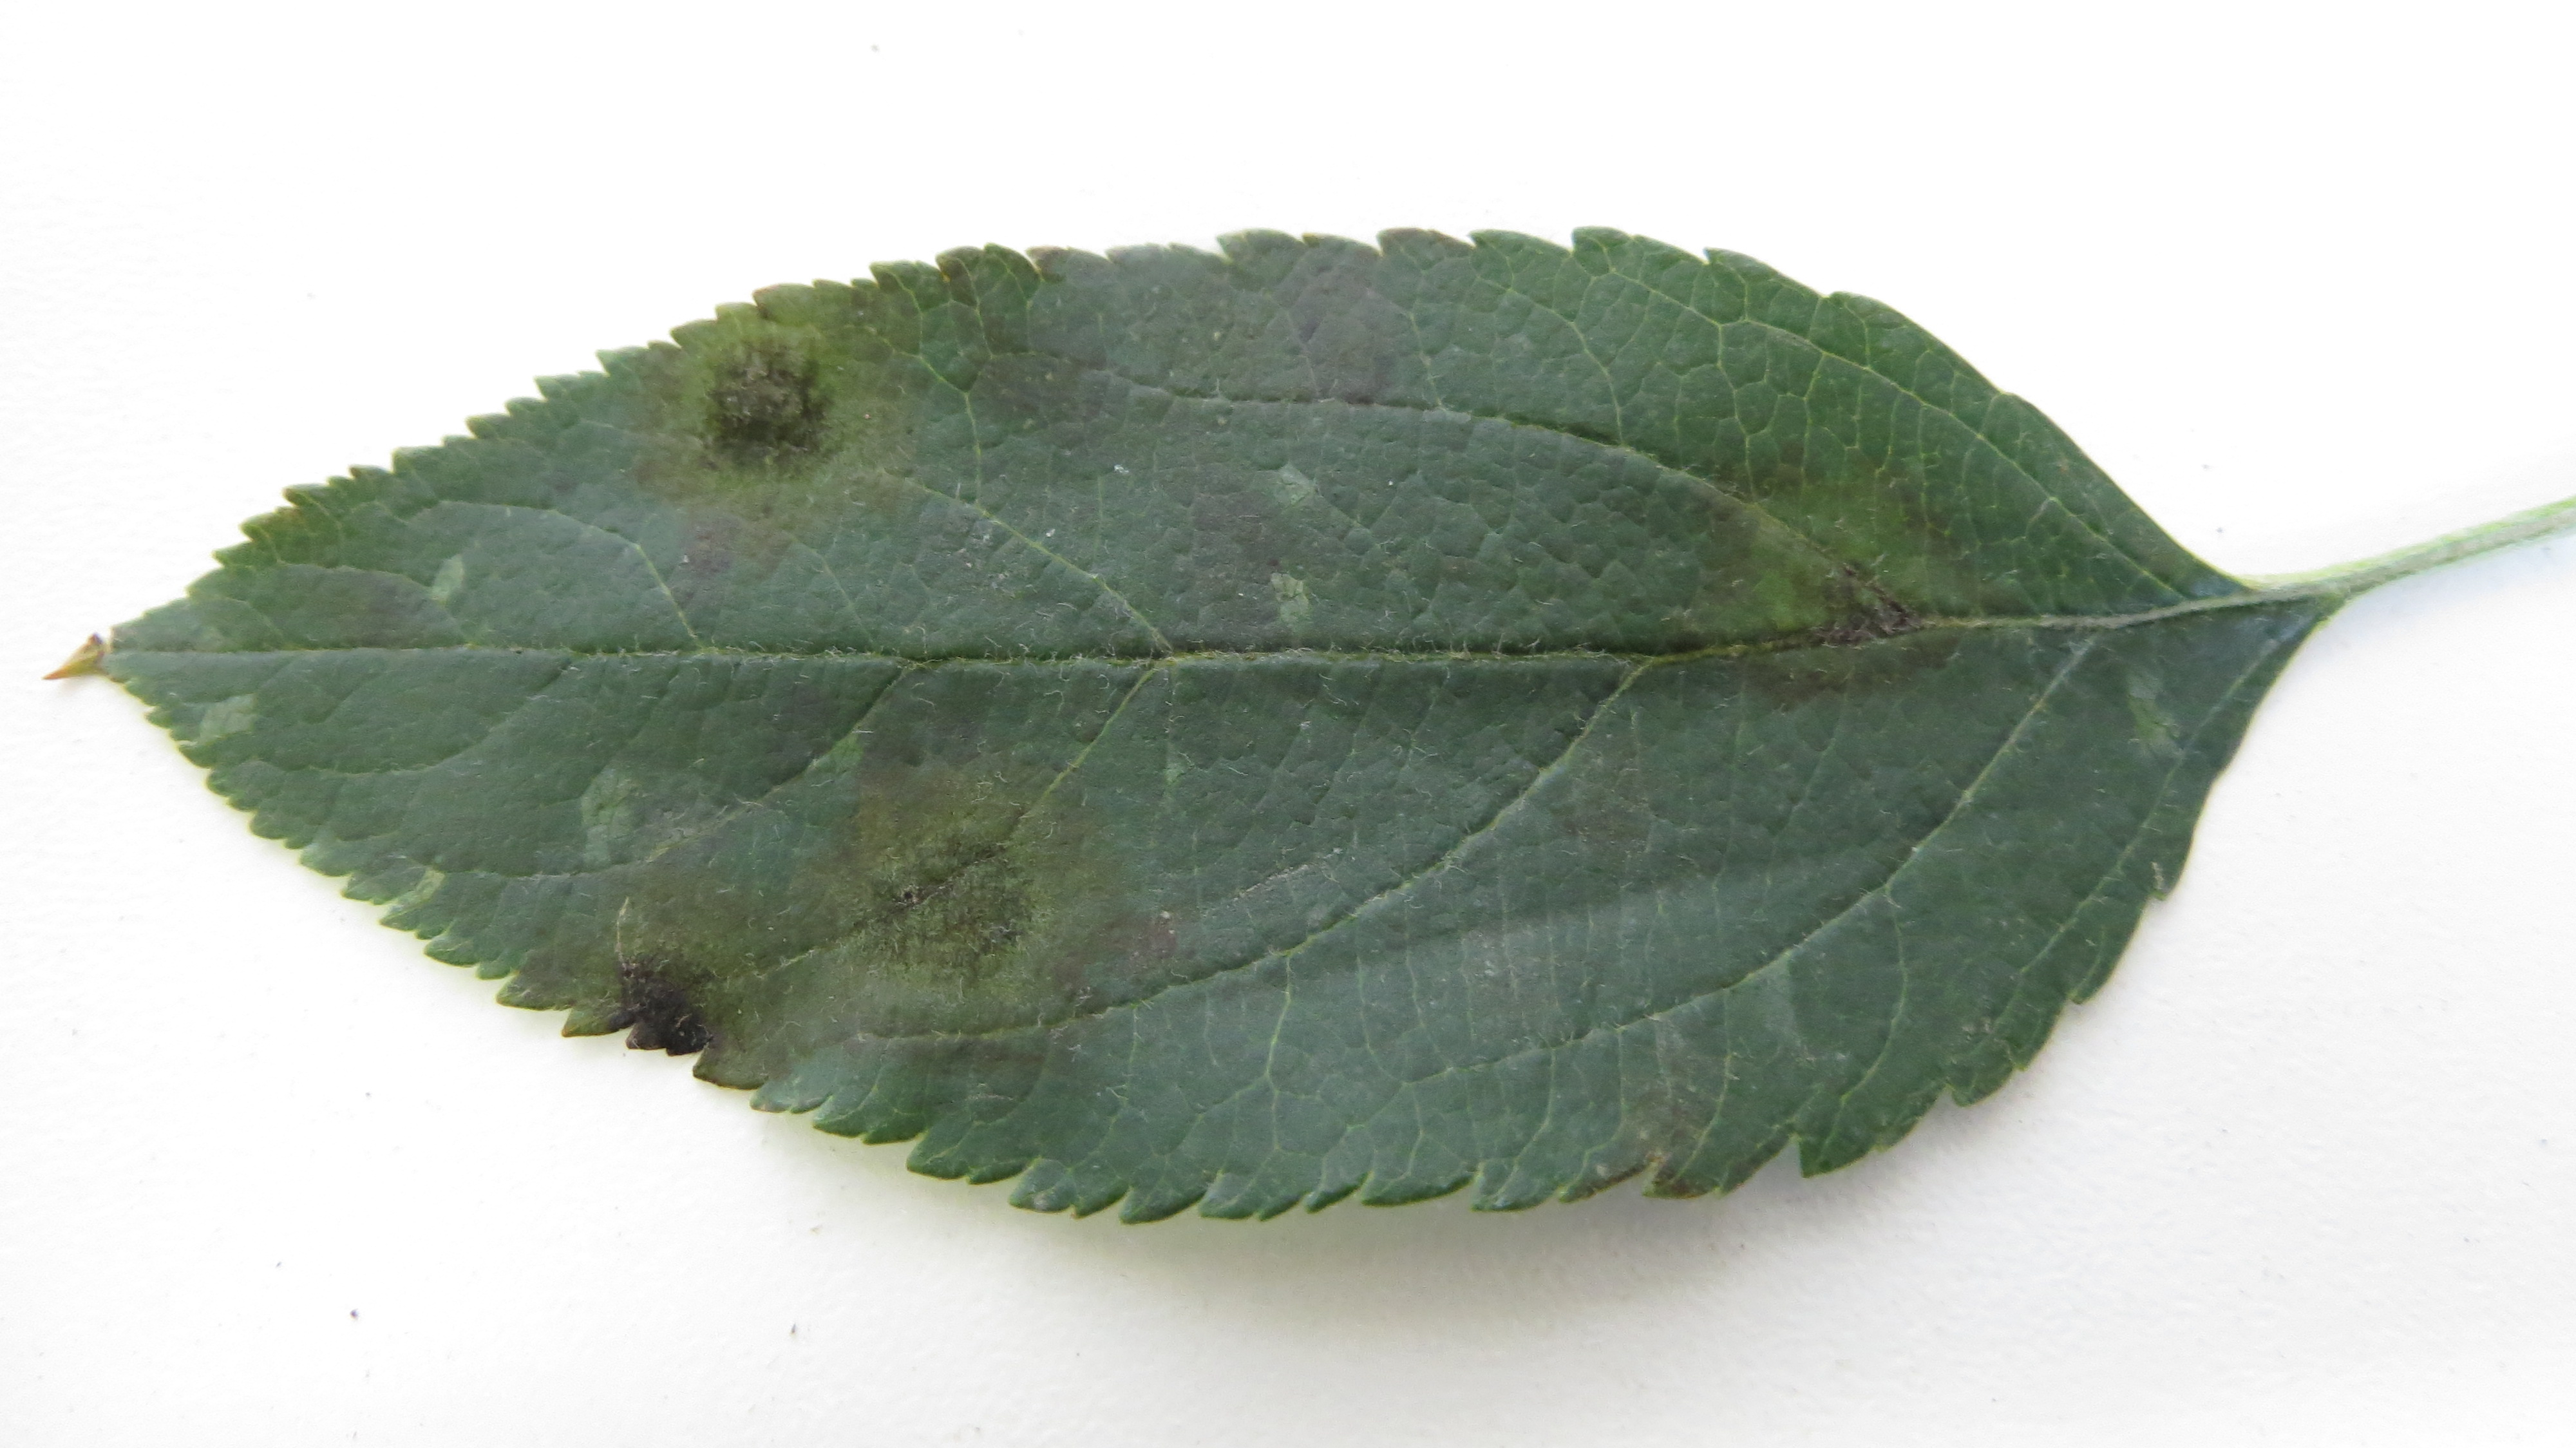sarna: (814, 724, 1108, 1043), (655, 303, 902, 556), (1727, 513, 1976, 708), (568, 919, 794, 1083)
